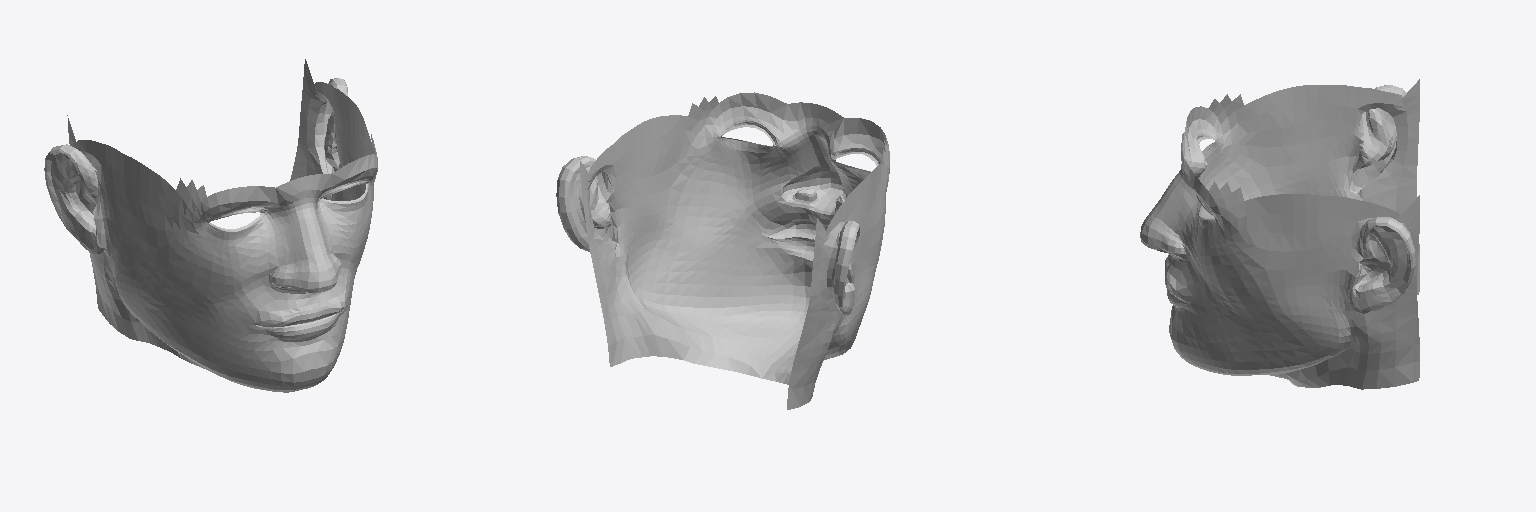
Rendered from Male_Head_landmarks_no_forhead.obj.
The picture shows the model from 3 angles: view 1: azimuth 30°, elevation 25°; view 2: azimuth 150°, elevation 25°; view 3: azimuth 270°, elevation 25°; orthographic projection.
Parts seen in each view (by area): view 1: male_head.obj.001; view 2: male_head.obj.001; view 3: male_head.obj.001.
Boxes of the visible parts, x1=… form: male_head.obj.001: x1=44, y1=59, x2=377, y2=392; male_head.obj.001: x1=556, y1=92, x2=889, y2=409; male_head.obj.001: x1=1140, y1=79, x2=1419, y2=389.
Bounding box in the file's own units: 30.35 × 23.38 × 24.94.